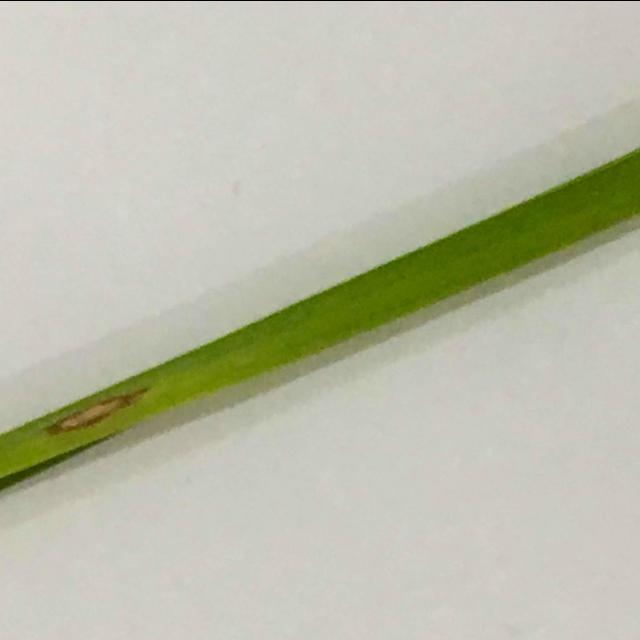Leaf blast: (0, 112, 640, 622)
